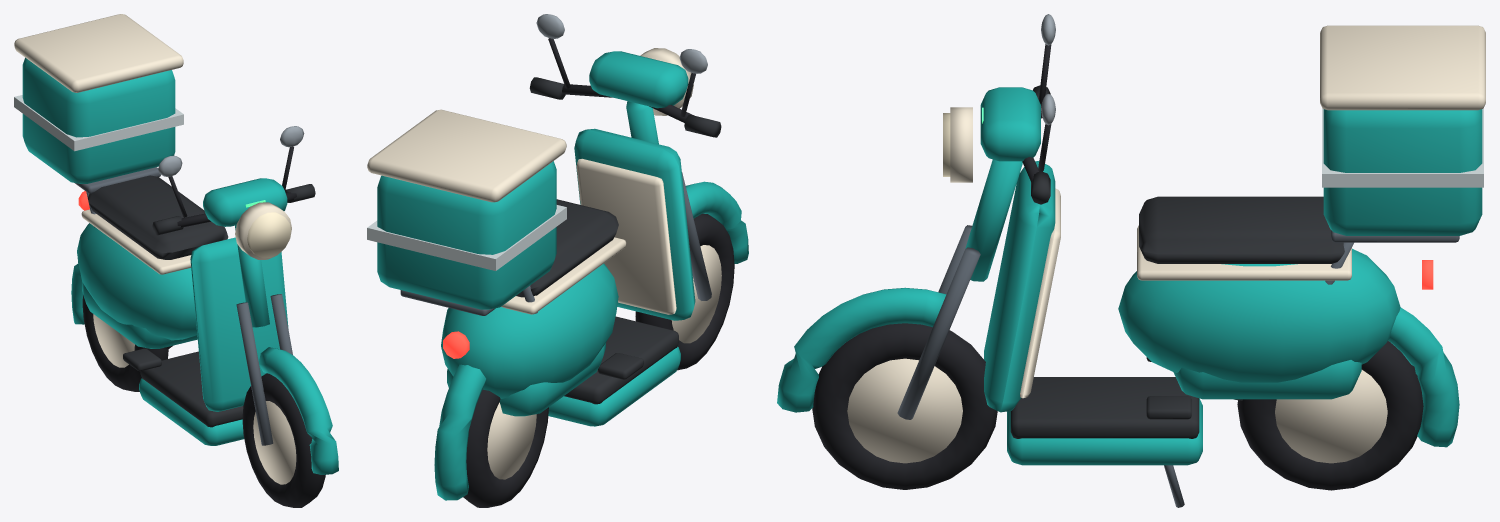
Rendered from moped.gltf.
3 views of the same model, side by side, from view 1: azimuth 30°, elevation 25°; view 2: azimuth 150°, elevation 25°; view 3: azimuth 270°, elevation 25° (orthographic). The views are drawn at different scales.
Visible parts, largest first — view 1: moped_frame, STEER_mesh, WHEEL_front_mesh, WHEEL_rear_mesh; view 2: moped_frame, STEER_mesh, WHEEL_rear_mesh, WHEEL_front_mesh; view 3: moped_frame, STEER_mesh, WHEEL_front_mesh, WHEEL_rear_mesh.
Part boxes in pixels (bbox=[...]): moped_frame: bbox=[14, 14, 288, 445]; STEER_mesh: bbox=[152, 126, 338, 474]; WHEEL_front_mesh: bbox=[242, 373, 325, 507]; WHEEL_rear_mesh: bbox=[82, 295, 168, 391]; moped_frame: bbox=[367, 109, 695, 500]; STEER_mesh: bbox=[529, 14, 748, 300]; WHEEL_rear_mesh: bbox=[463, 389, 548, 507]; WHEEL_front_mesh: bbox=[635, 213, 734, 370]; moped_frame: bbox=[984, 25, 1485, 507]; STEER_mesh: bbox=[777, 14, 1055, 419]; WHEEL_front_mesh: bbox=[812, 323, 997, 489]; WHEEL_rear_mesh: bbox=[1237, 341, 1423, 490].
Size of what is drawn, in the model's own units: 0.64 by 1.27 by 1.88.
